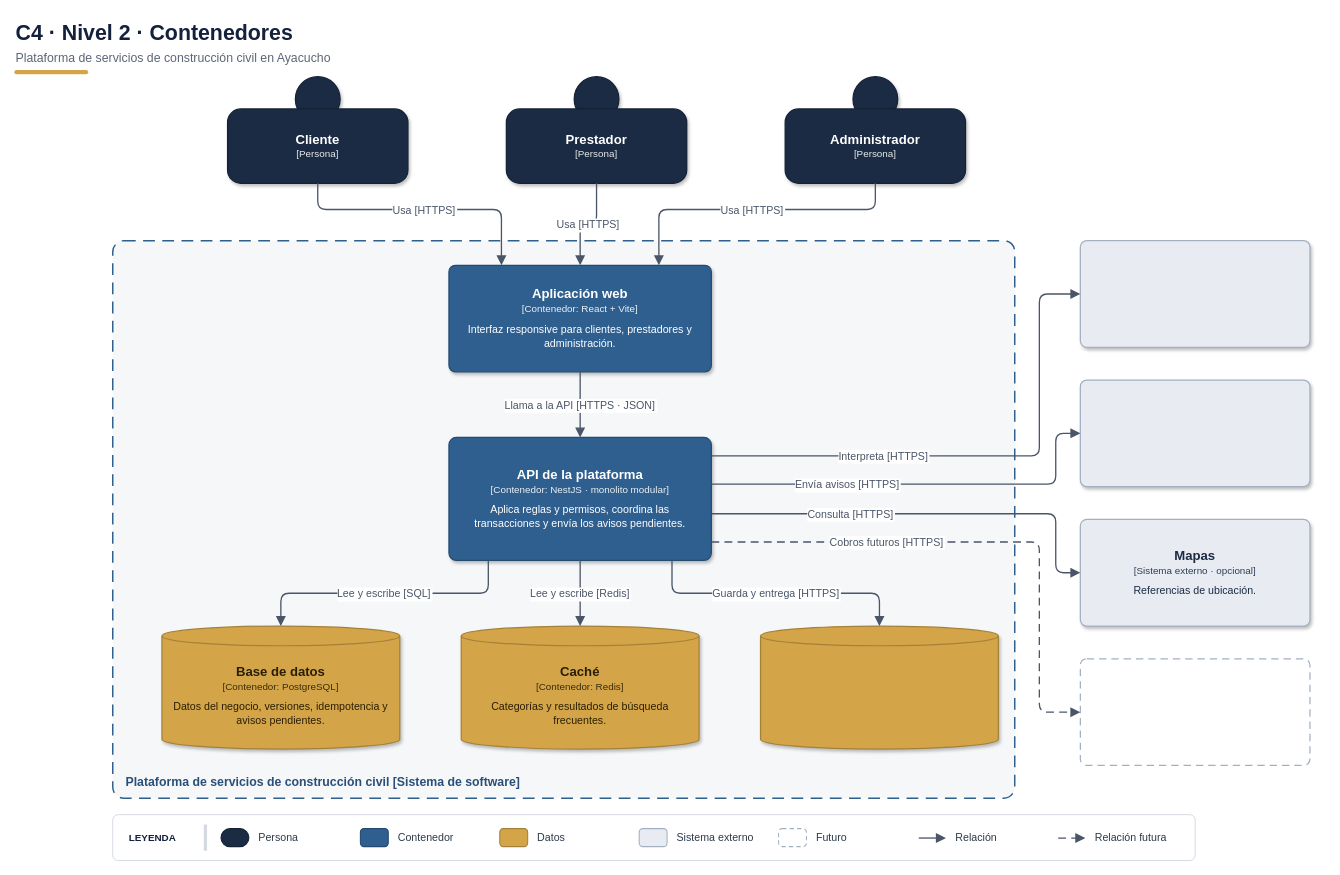
This 1340x875 diagram has some shape labels left out. The centre of each missing label's shape, as x and y in pixels:
Archivos [Contenedor: almacenamiento de objetos] Fotos, documentos y evidencias.: [880,688]
Notificaciones [Sistema externo] Entrega avisos por correo u otro canal.: [1195,434]
Pasarela de pagos [Sistema externo · futuro] Cobro de planes de la plataforma.: [1194,712]
Servicio de IA [Sistema externo] Interpreta la necesidad del cliente.: [1195,294]
